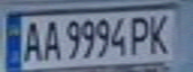4: (109, 15, 130, 57)
9: (63, 16, 81, 61), (93, 16, 112, 58), (78, 16, 96, 60)
A: (18, 18, 45, 63), (39, 17, 63, 62)
K: (148, 11, 178, 55)
P: (127, 12, 157, 56)
